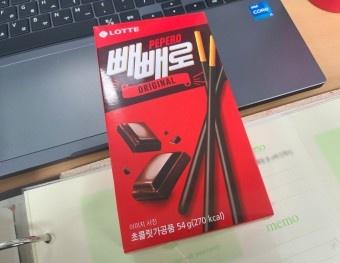snack: (92, 11, 275, 254)
